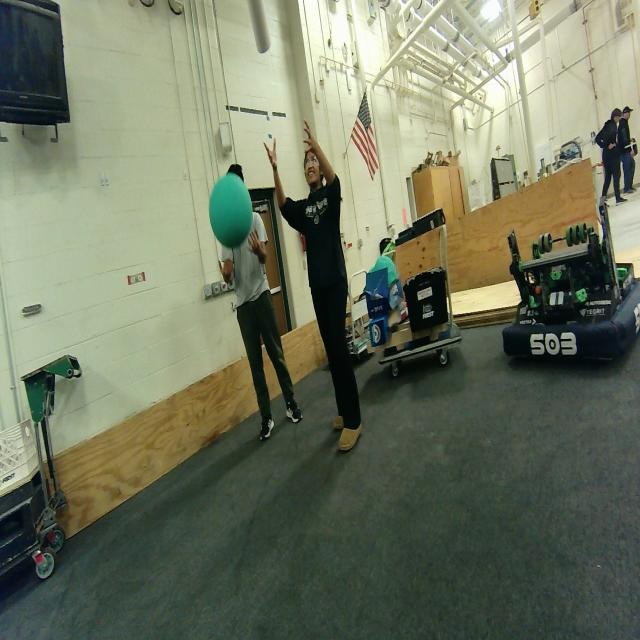algae: (209, 165, 253, 249)
coral: (245, 0, 272, 55)
